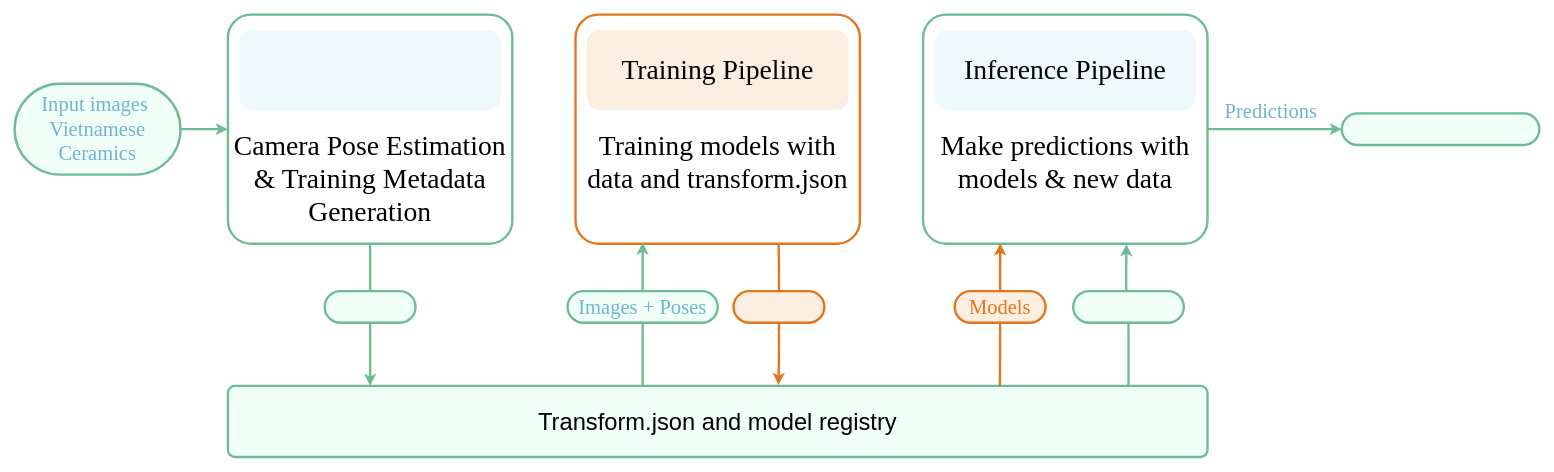
Some shapes in this 1554 by 472 pixel diagram are drawn without their labels. Here are the shapes that lost their labels. From the top down, the centre of each, then its label:
At (369,69): "Colmap Pipeline".
At (1440,129): "AI-product".
At (369,307): "Data".
At (778,307): "Weights".
At (1128,307): "1-3 images".
